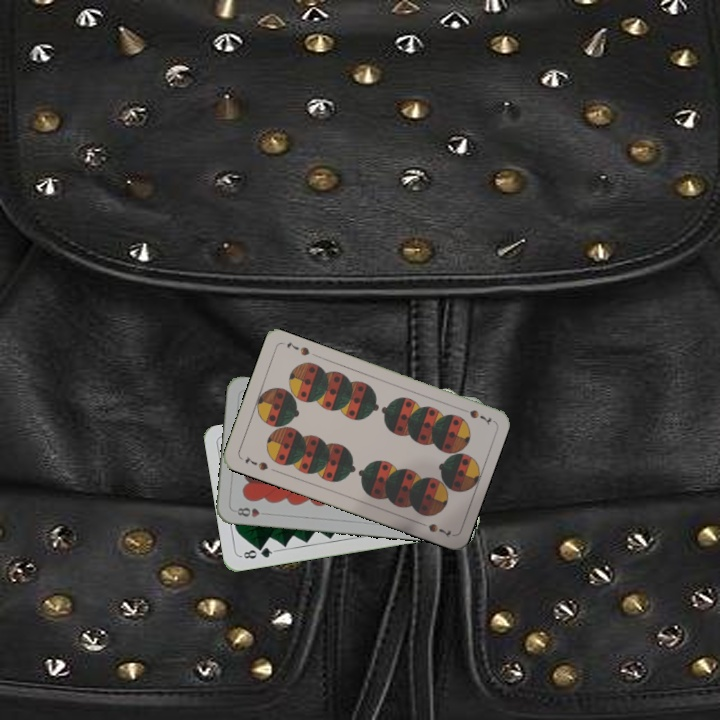G8: (237, 543, 278, 562)
H8: (233, 503, 271, 520)
S7: (456, 404, 494, 427), (241, 453, 271, 473)
